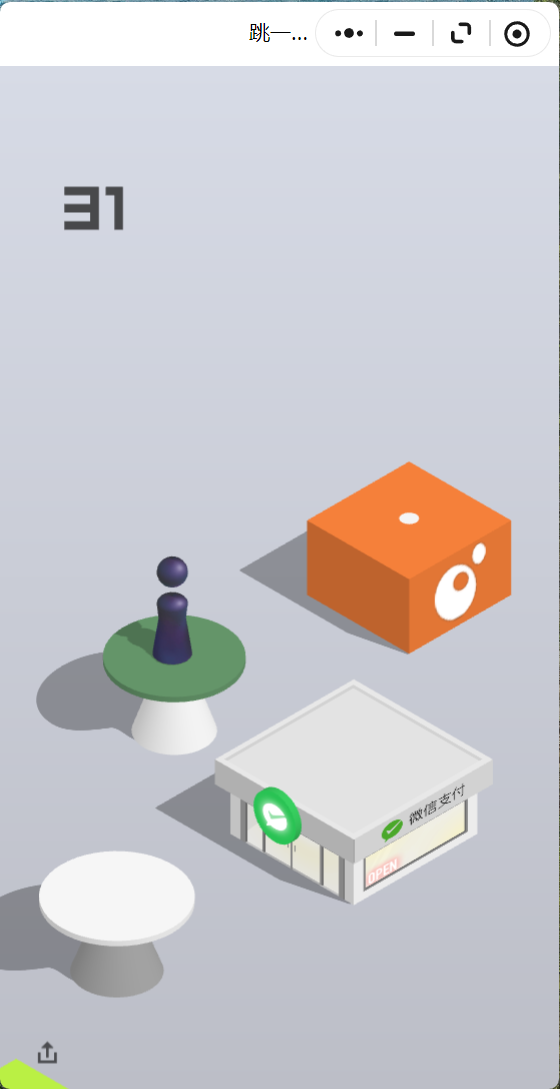piece: (157, 556, 188, 661)
target: (307, 462, 512, 579)
